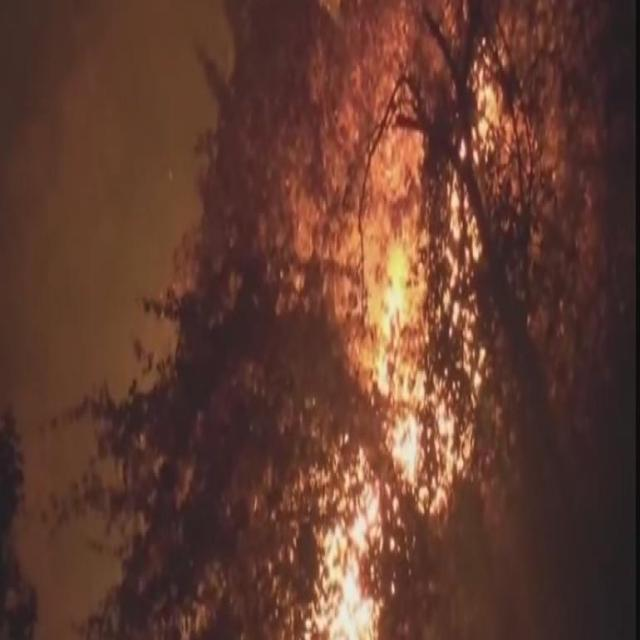Fire: (368, 245, 418, 408), (315, 518, 369, 639)
Smoke: (2, 0, 182, 367)
